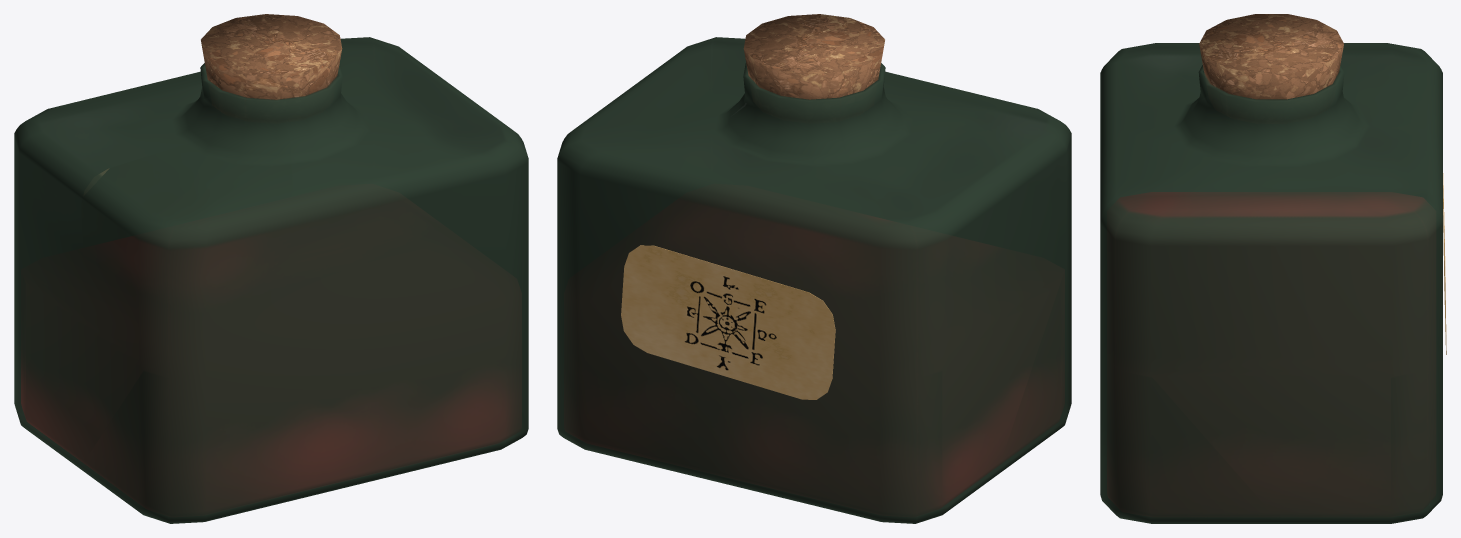
3 renders of one model, left to right at view 1: azimuth 30°, elevation 25°; view 2: azimuth 150°, elevation 25°; view 3: azimuth 270°, elevation 25°, orthographic.
Parts seen in each view (by area): view 1: Bottle, Liquid, Cork; view 2: Bottle, Label, Cork, Liquid; view 3: Bottle, Cork, Liquid.
Boxes of the visible parts, bbox=[...] form: Bottle: bbox=[14, 37, 528, 523]; Liquid: bbox=[21, 236, 510, 501]; Cork: bbox=[201, 14, 342, 99]; Bottle: bbox=[557, 37, 1071, 523]; Label: bbox=[621, 245, 835, 399]; Cork: bbox=[743, 14, 884, 99]; Liquid: bbox=[879, 218, 1043, 508]; Bottle: bbox=[1100, 43, 1442, 523]; Cork: bbox=[1199, 14, 1343, 99]; Liquid: bbox=[1117, 192, 1424, 217].
Bounding box in the file's own units: 1.46 × 1.39 × 1.12.
Materials: 4 (4 with a texture image).
